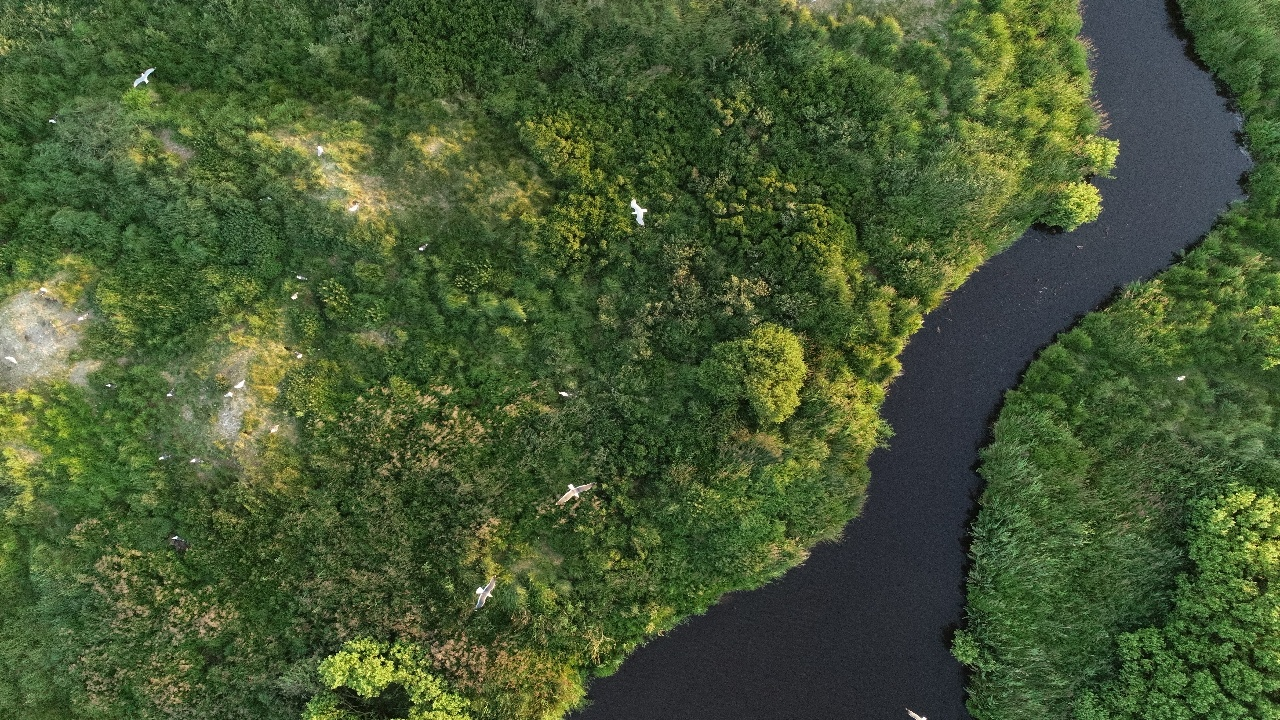Bird: (462, 572, 506, 616), (553, 470, 597, 514), (124, 56, 168, 100), (1159, 353, 1203, 397), (619, 193, 661, 230), (303, 133, 337, 169), (335, 186, 369, 222), (411, 230, 445, 266), (284, 256, 318, 292), (34, 103, 67, 138), (280, 279, 312, 312), (282, 336, 314, 369), (154, 373, 186, 406), (98, 368, 130, 401), (69, 302, 101, 335), (29, 274, 61, 307), (185, 443, 217, 476), (167, 521, 199, 554), (148, 441, 180, 474), (259, 412, 291, 445), (1, 340, 32, 373), (229, 371, 256, 394), (216, 385, 243, 408), (557, 383, 584, 406)
